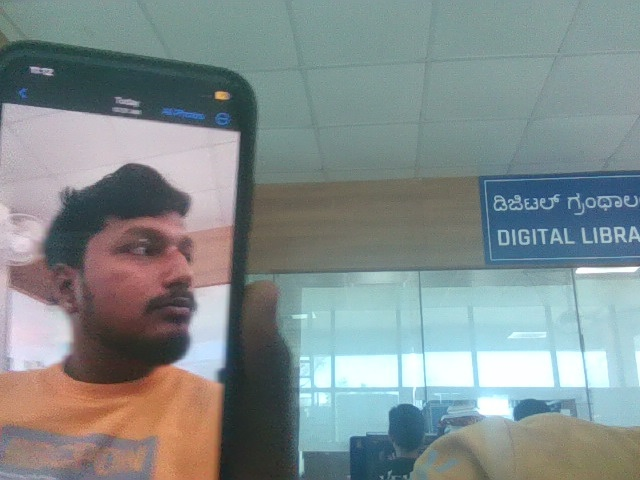fake: (65, 131, 233, 369)
